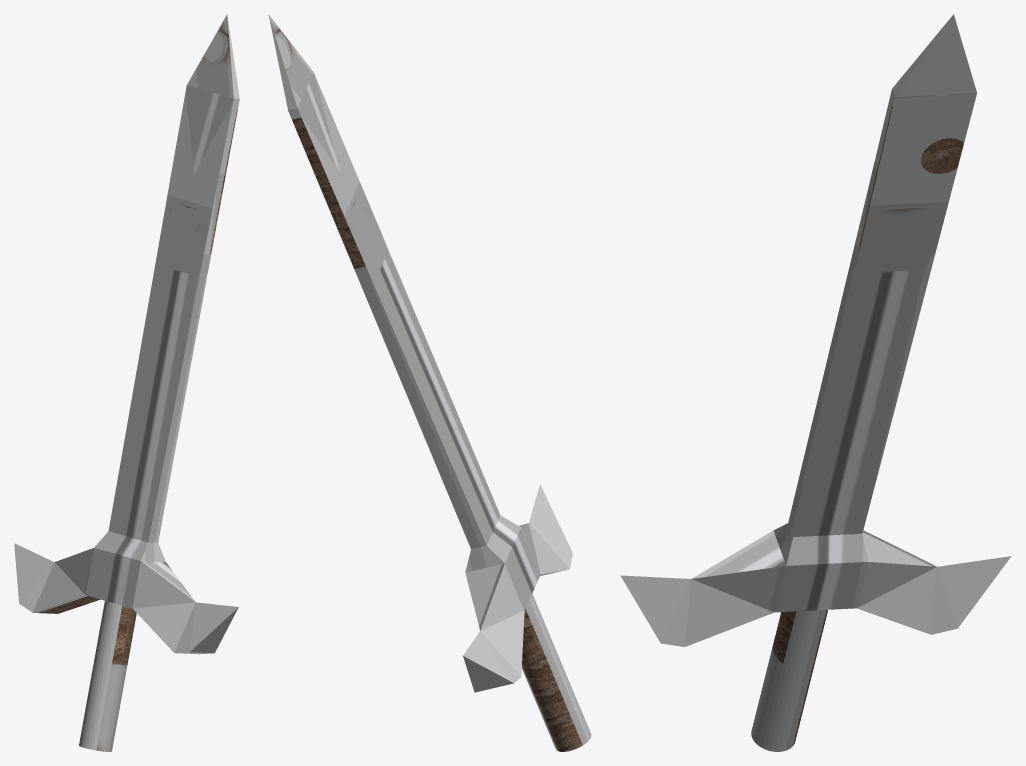
The model's file is Protagonista111.obj.
The picture shows the model from 3 angles, left to right: view 1: azimuth 30°, elevation 25°; view 2: azimuth 150°, elevation 25°; view 3: azimuth 270°, elevation 25°; orthographic projection. The views are drawn at different scales.
Visible parts, largest first — view 1: Cube; view 2: Cube; view 3: Cube.
Boxes of the visible parts, x1,y1,x2,y2 form: Cube: [14, 14, 239, 751]; Cube: [268, 14, 591, 751]; Cube: [620, 14, 1011, 751].
Bounding box in the file's own units: 0.5727 × 1.65 × 0.6803.
Materials: 1 (1 with a texture image).
